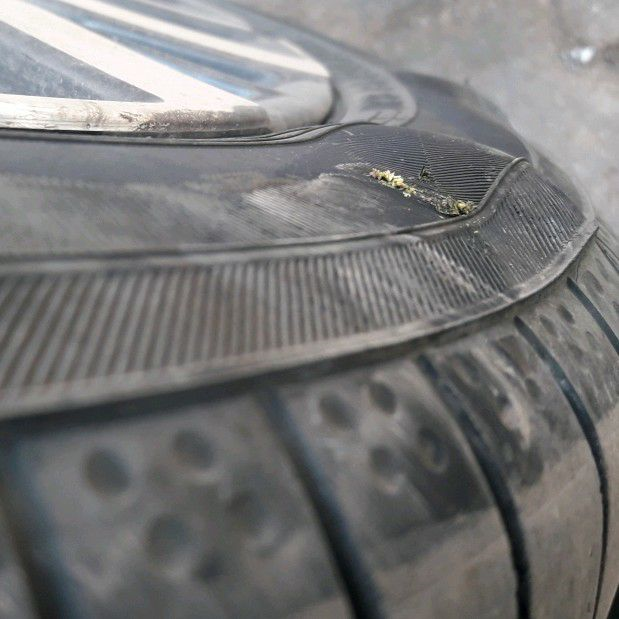CBU: (261, 122, 596, 288)
cut: (363, 165, 484, 220)
